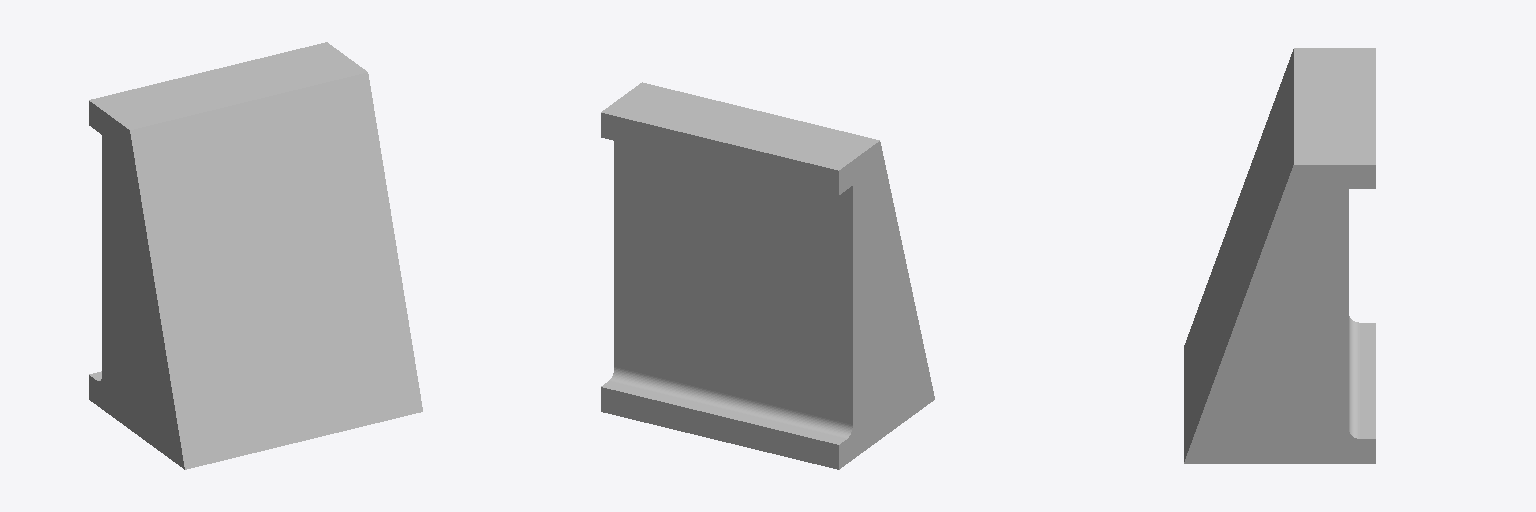
The model's file is SF_Kit_Exterior_Wall_1_m.obj.
3 views of the same model, side by side, from view 1: azimuth 30°, elevation 25°; view 2: azimuth 150°, elevation 25°; view 3: azimuth 270°, elevation 25° (orthographic).
Visible parts, largest first — view 1: SF_Kit_Exterior_Wall_1_m-SKP-Default_Material; view 2: SF_Kit_Exterior_Wall_1_m-SKP-Default_Material; view 3: SF_Kit_Exterior_Wall_1_m-SKP-Default_Material.
Part boxes in pixels (bbox=[...]): SF_Kit_Exterior_Wall_1_m-SKP-Default_Material: bbox=[89, 42, 422, 469]; SF_Kit_Exterior_Wall_1_m-SKP-Default_Material: bbox=[601, 82, 934, 469]; SF_Kit_Exterior_Wall_1_m-SKP-Default_Material: bbox=[1184, 48, 1375, 463].
Bounding box in the file's own units: 2.5 × 3 × 1.75.